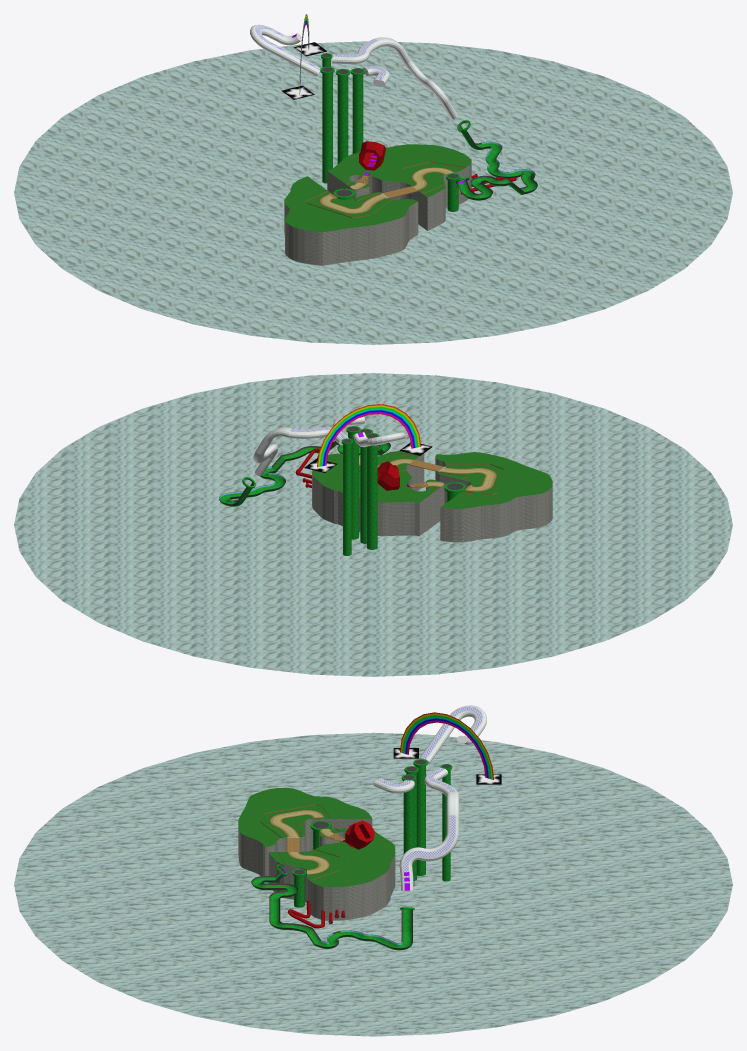
The picture shows the model from 3 angles, top to bottom: view 1: azimuth 30°, elevation 25°; view 2: azimuth 150°, elevation 25°; view 3: azimuth 270°, elevation 25°; orthographic projection.
Parts seen in each view (by area): view 1: new_course_SKP__sand, new_course_SKP__grass, new_course_SKP__rockwall, new_course_SKP__pipe, new_course_SKP__cloud, new_course_SKP__road, new_course_SKP__pipetop, new_course_SKP__metalwall, new_course_SKP__wood, new_course_SKP__cloud2, new_course_SKP__cloud3; view 2: new_course_SKP__sand, new_course_SKP__rockwall, new_course_SKP__grass, new_course_SKP__pipe, new_course_SKP__cloud, new_course_SKP__rainbow, new_course_SKP__road, new_course_SKP__metalwall, new_course_SKP__pipetop, new_course_SKP__wood; view 3: new_course_SKP__sand, new_course_SKP__grass, new_course_SKP__rockwall, new_course_SKP__pipe, new_course_SKP__cloud, new_course_SKP__rainbow, new_course_SKP__cloud2, new_course_SKP__pipetop, new_course_SKP__metalwall, new_course_SKP__road, new_course_SKP__wood.
Boxes of the visible parts, box(x1,y1,x2,y2) form: new_course_SKP__sand: box(14, 41, 732, 344); new_course_SKP__grass: box(284, 144, 471, 232); new_course_SKP__rockwall: box(284, 161, 471, 265); new_course_SKP__pipe: box(320, 53, 536, 211); new_course_SKP__cloud: box(250, 24, 458, 119); new_course_SKP__road: box(319, 167, 454, 213); new_course_SKP__pipetop: box(322, 53, 537, 199); new_course_SKP__metalwall: box(359, 141, 516, 194); new_course_SKP__wood: box(307, 161, 465, 218); new_course_SKP__cloud2: box(255, 25, 386, 80); new_course_SKP__cloud3: box(281, 42, 326, 99); new_course_SKP__sand: box(14, 373, 732, 676); new_course_SKP__rockwall: box(312, 453, 552, 542); new_course_SKP__grass: box(312, 451, 552, 508); new_course_SKP__pipe: box(219, 426, 465, 555); new_course_SKP__cloud: box(253, 416, 405, 475); new_course_SKP__rainbow: box(317, 404, 420, 467); new_course_SKP__road: box(359, 455, 497, 491); new_course_SKP__metalwall: box(295, 448, 410, 490); new_course_SKP__pipetop: box(219, 427, 463, 505); new_course_SKP__wood: box(359, 452, 504, 494); new_course_SKP__sand: box(14, 732, 732, 1036); new_course_SKP__grass: box(238, 788, 395, 887); new_course_SKP__rockwall: box(238, 819, 395, 920); new_course_SKP__pipe: box(252, 759, 452, 950); new_course_SKP__cloud: box(373, 705, 486, 891); new_course_SKP__rainbow: box(400, 712, 493, 779); new_course_SKP__cloud2: box(376, 706, 482, 883); new_course_SKP__pipetop: box(251, 760, 450, 949); new_course_SKP__metalwall: box(288, 820, 374, 928); new_course_SKP__road: box(269, 809, 334, 874); new_course_SKP__wood: box(260, 804, 344, 880).
Size of what is drawn, in the model's own units: 200000 by 49742 by 200000.
15 materials, 15 textured.
